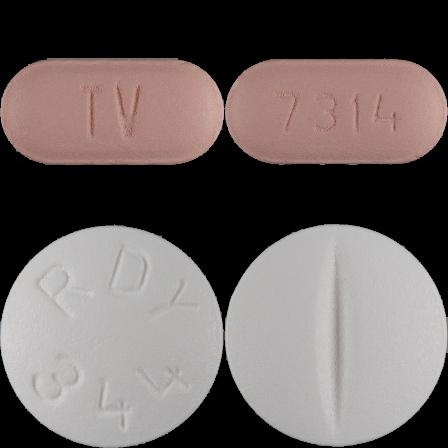54458-888: (0, 0, 224, 224)
